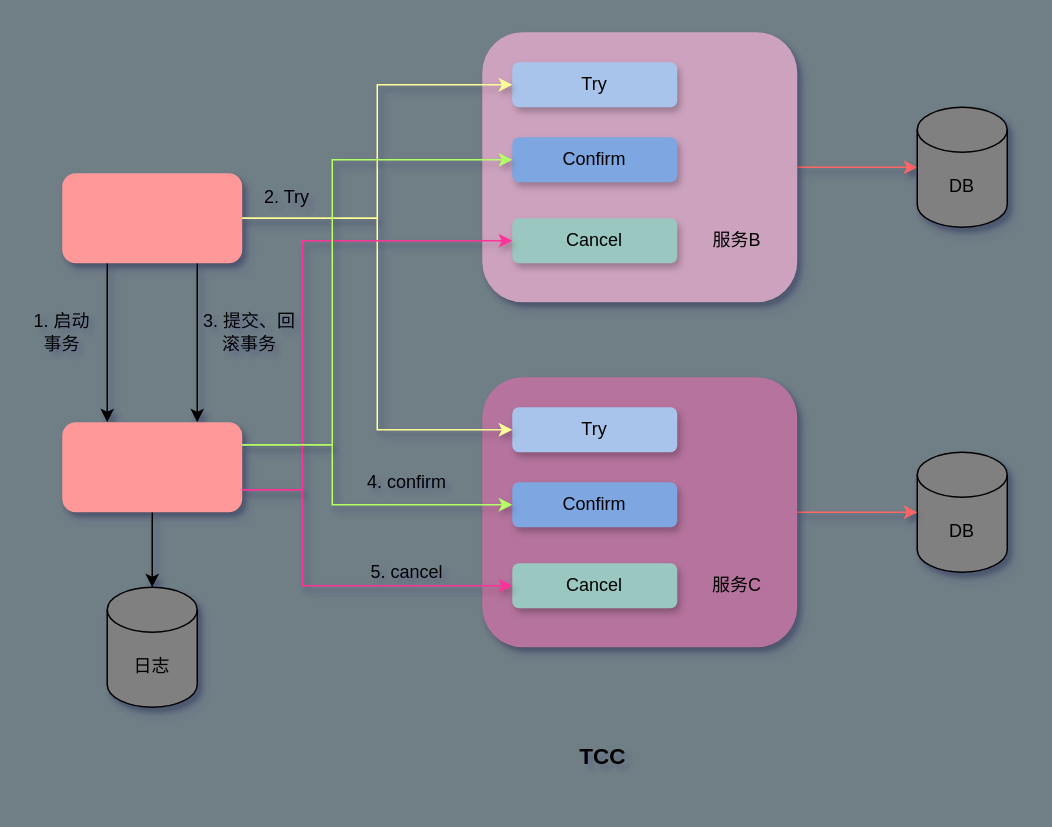
The diagram is 1052 pixels wide and 827 high, and some of its shapes have lost their labels. The centre of each missing label's shape, as x and y in pixels:
"主业务 服务A" belongs at [153,219].
"事务管理器" belongs at [153,469].
